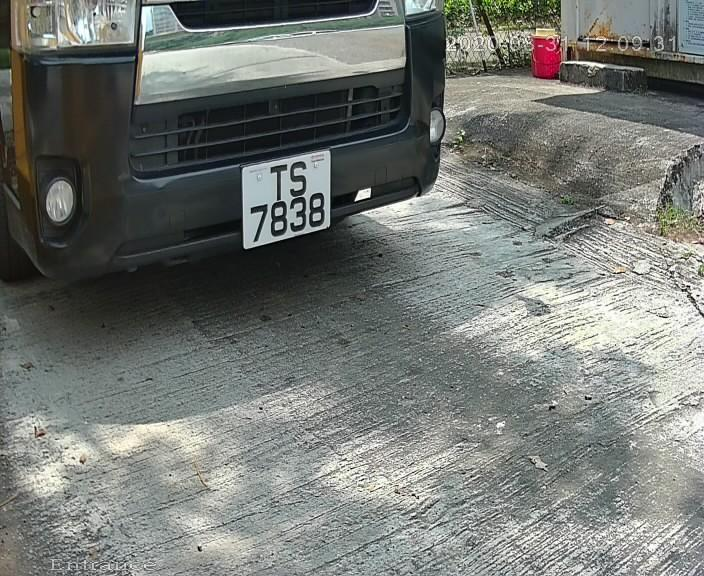License Plate: (233, 150, 343, 250)
